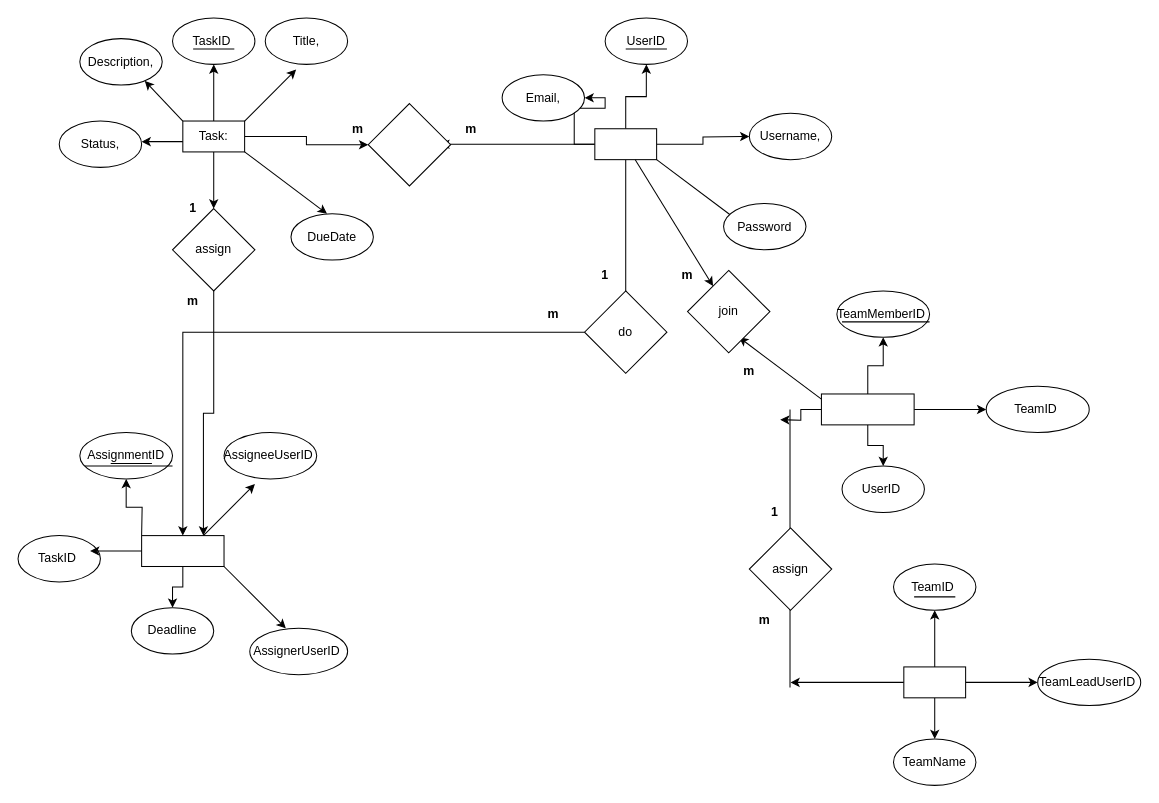
The diagram is 1159 pixels wide and 803 high, and some of its shapes have lost their labels. Each missing label, with the centre of its shape:
"Assignment:" goes at pixel 182 550.
"make" goes at pixel 409 144.
"Team:" goes at pixel 934 682.
"Team_Member:" goes at pixel 867 409.
"User:" goes at pixel 625 144.
